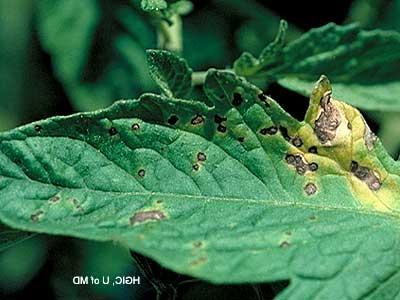Tomato Early blight leaf: (0, 78, 399, 276)
